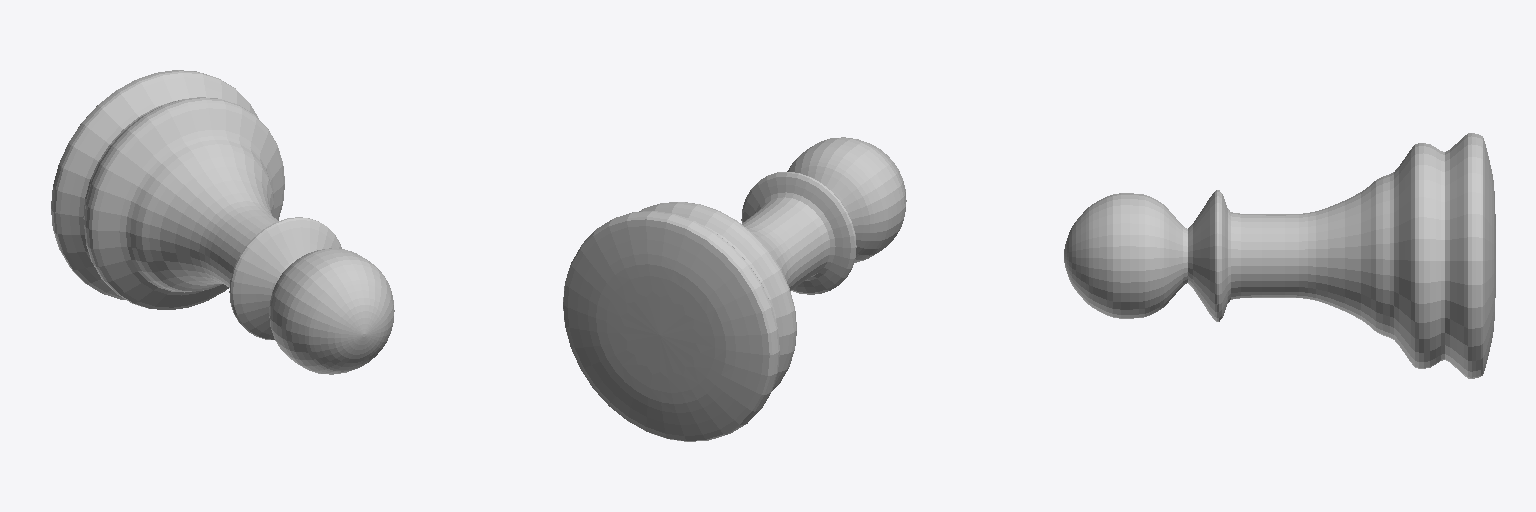
The model's file is whitepawn1.obj.
3 views of the same model, side by side, from view 1: azimuth 30°, elevation 25°; view 2: azimuth 150°, elevation 25°; view 3: azimuth 270°, elevation 25° (orthographic).
Visible parts, largest first — view 1: Cube; view 2: Cube; view 3: Cube.
Part boxes in pixels (left/top/right/bottom): Cube: left=51, top=70, right=394, bottom=374; Cube: left=563, top=137, right=906, bottom=441; Cube: left=1064, top=133, right=1495, bottom=378.
Bounding box in the file's own units: 1.86 × 1.86 × 3.28.